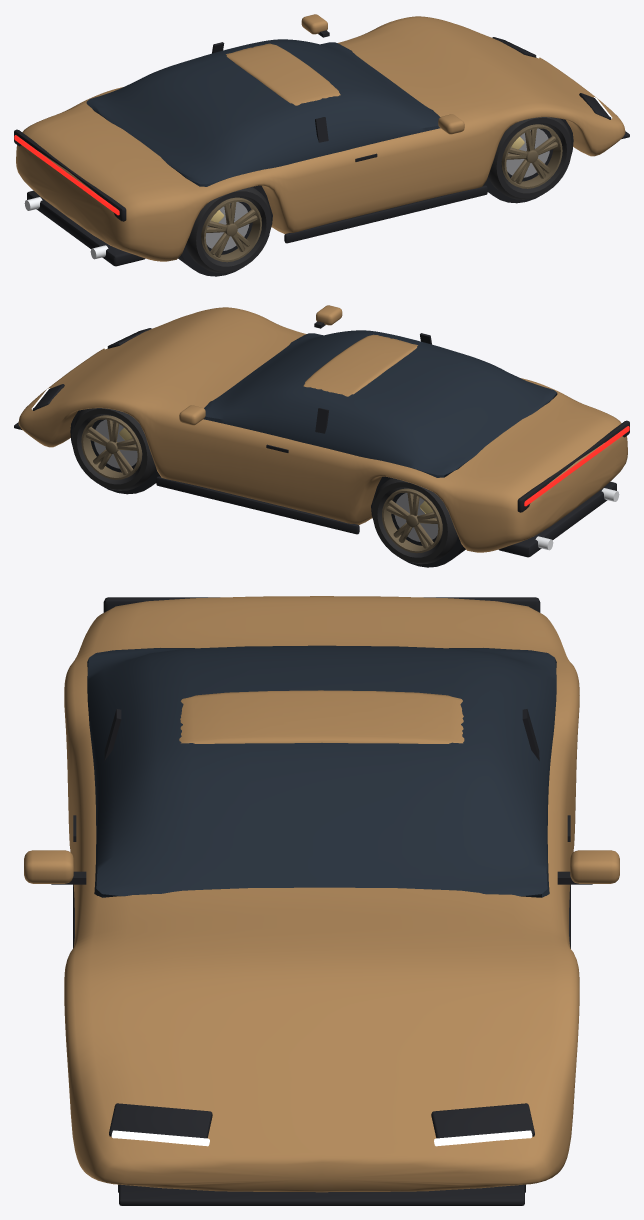
File: lualaba.glb
3 renders of one model, top to bottom at view 1: azimuth 30°, elevation 25°; view 2: azimuth 150°, elevation 25°; view 3: azimuth 270°, elevation 25°, orthographic. The views are drawn at different scales.
Visible parts, largest first — view 1: car_paint, car_glass, car_trim, wheel_RR, wheel_FR, car_lightR; view 2: car_paint, car_glass, car_trim, wheel_RL, wheel_FL, car_lightR; view 3: car_paint, car_glass, car_trim, car_lightF.
Part boxes in pixels (box(x1,y1,x2,y2)): car_paint: box(16, 14, 625, 261); car_glass: box(86, 39, 440, 186); car_trim: box(14, 30, 629, 276); wheel_RR: box(186, 187, 271, 273); wheel_FR: box(488, 117, 571, 199); car_lightR: box(14, 135, 119, 215); car_paint: box(18, 305, 627, 552); car_glass: box(203, 330, 557, 477); car_trim: box(14, 321, 629, 567); wheel_RL: box(372, 478, 457, 564); wheel_FL: box(72, 408, 155, 490); car_lightR: box(524, 426, 629, 506); car_paint: box(24, 596, 619, 1192); car_glass: box(87, 645, 556, 897); car_trim: box(51, 597, 592, 1205); car_lightF: box(111, 1130, 532, 1146).
Size of the model in its own units: 4.82 by 1.25 by 2.4.
